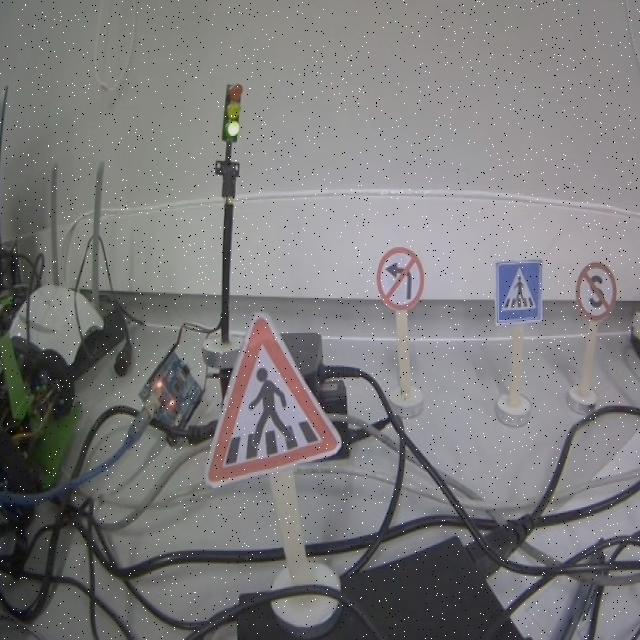Dilarang Belok Kiri: (378, 248, 424, 308)
Lampu Hijau: (222, 83, 241, 142)
Rambu Berhenti: (576, 262, 617, 320)
Rambu Penyebrangan: (205, 314, 341, 485), (495, 258, 544, 324)
